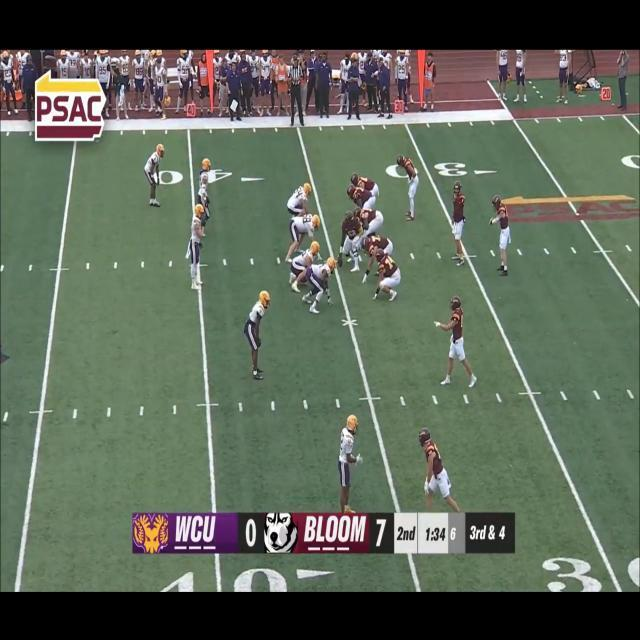football: (336, 253, 345, 268)
